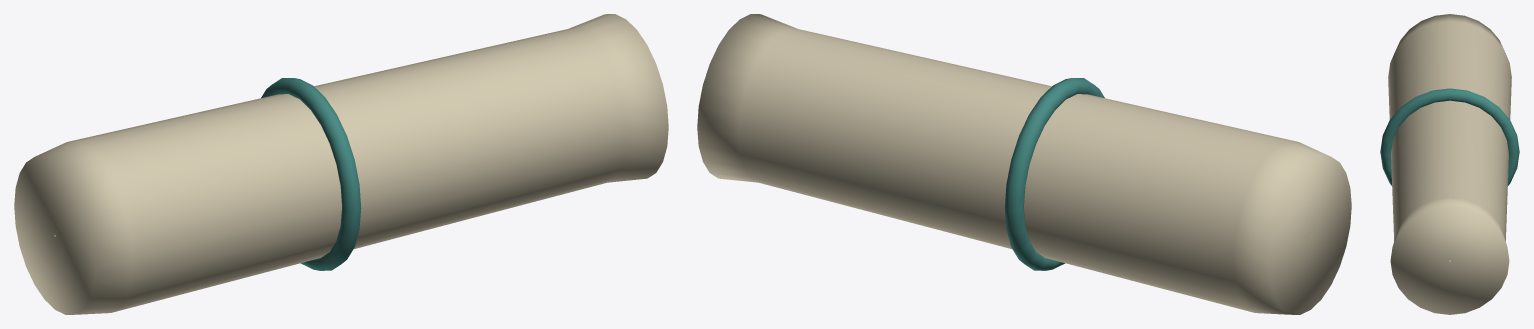
Rendered from rolled-scroll.glb.
3 renders of one model, left to right at view 1: azimuth 30°, elevation 25°; view 2: azimuth 150°, elevation 25°; view 3: azimuth 270°, elevation 25°, orthographic. The views are drawn at different scales.
Parts seen in each view (by area): view 1: rolled-scroll__Visual_matte; view 2: rolled-scroll__Visual_matte; view 3: rolled-scroll__Visual_matte.
Part boxes in pixels (x1,y1,x2,y2): rolled-scroll__Visual_matte: (14,14,668,314); rolled-scroll__Visual_matte: (697,14,1351,314); rolled-scroll__Visual_matte: (1380,14,1519,314).
Bounding box in the file's own units: 0.59 × 0.178 × 0.178.
